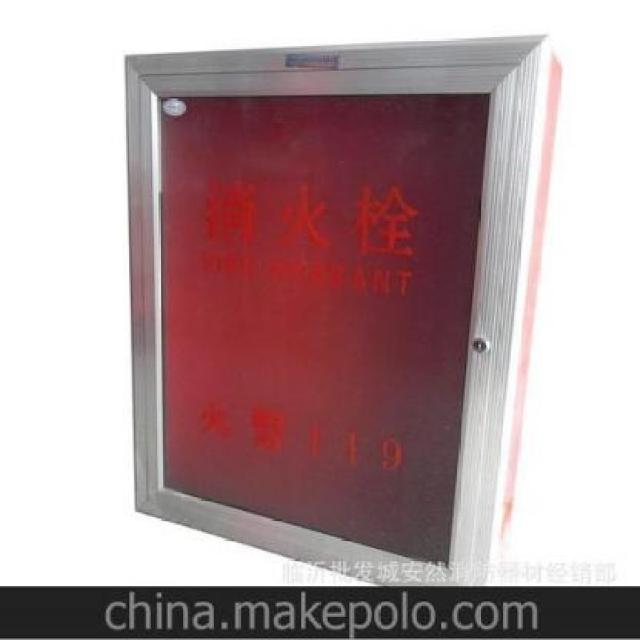firehydrant: (122, 29, 566, 586)
